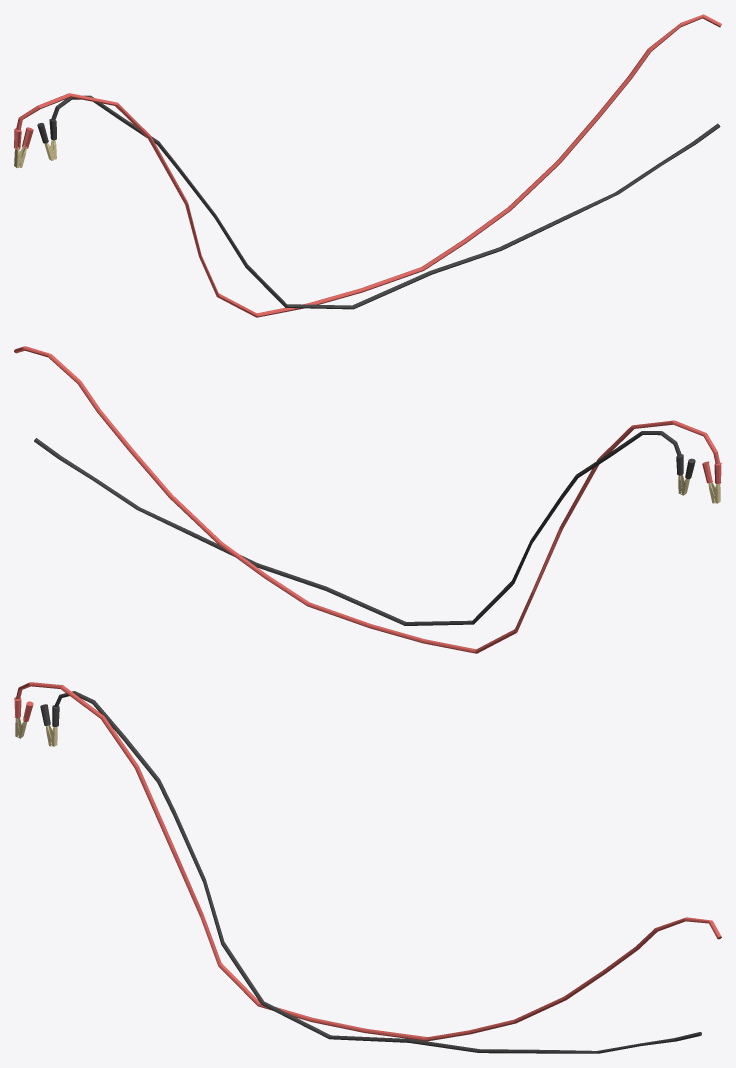
The model's file is pinzas cables.fbx.
3 renders of one model, top to bottom at view 1: azimuth 30°, elevation 25°; view 2: azimuth 150°, elevation 25°; view 3: azimuth 330°, elevation 25°, orthographic.
Parts seen in each view (by area): view 1: CablesRojos, CablesNegros; view 2: CablesRojos, CablesNegros; view 3: CablesRojos, CablesNegros.
Boxes of the visible parts, bbox=[...] form: CablesRojos: bbox=[14, 14, 721, 317]; CablesNegros: bbox=[37, 95, 720, 309]; CablesRojos: bbox=[14, 346, 721, 653]; CablesNegros: bbox=[34, 431, 695, 625]; CablesRojos: bbox=[14, 682, 721, 1041]; CablesNegros: bbox=[40, 691, 701, 1053].
Size of the model in its own units: 7035 by 2643 by 314.
